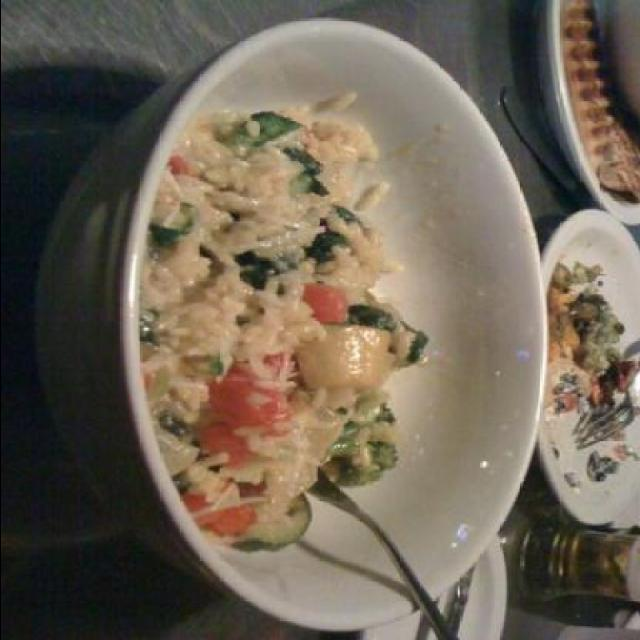Risotto: (103, 92, 423, 543)
